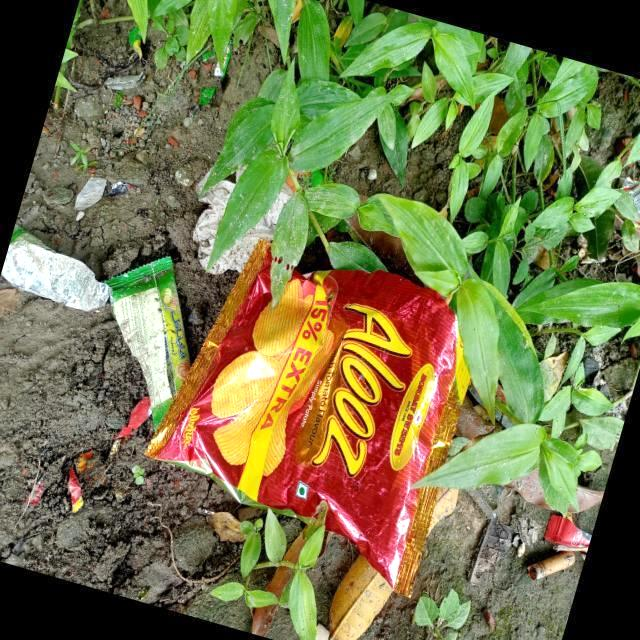packet: (139, 220, 517, 592), (96, 239, 212, 423), (0, 235, 116, 321), (185, 33, 235, 108), (533, 503, 592, 563), (601, 169, 640, 253)
